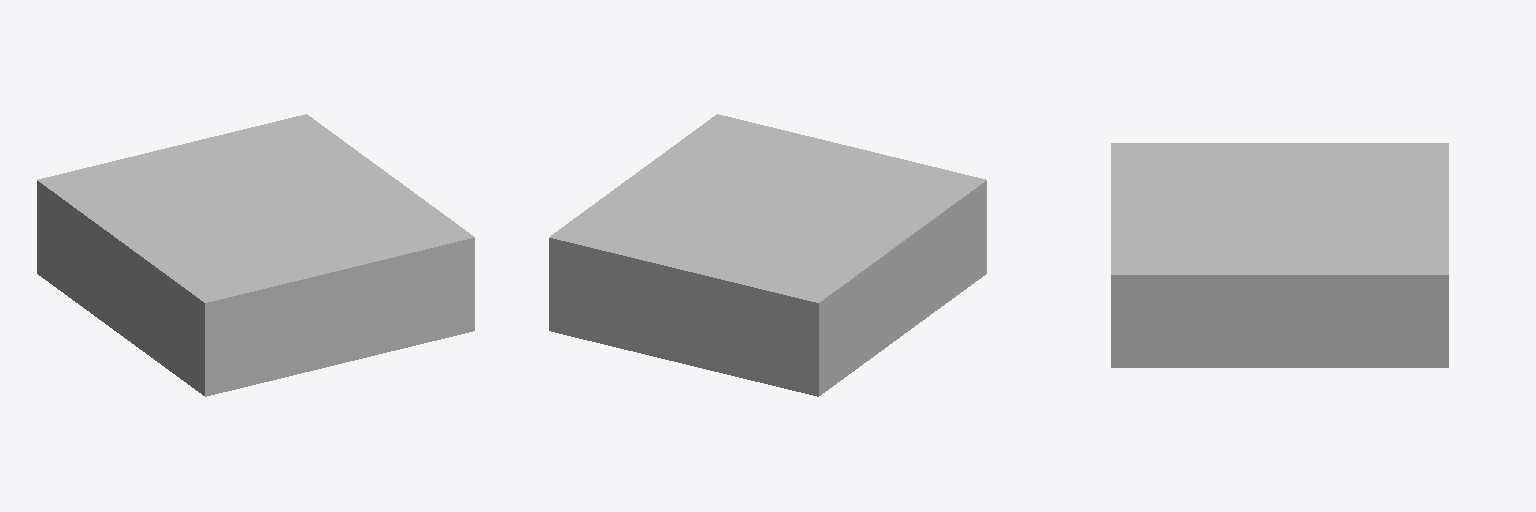
Rendered from prueba.obj.
The picture shows the model from 3 angles: view 1: azimuth 30°, elevation 25°; view 2: azimuth 150°, elevation 25°; view 3: azimuth 270°, elevation 25°; orthographic projection.
Visible parts, largest first — view 1: Cube_Cube.001; view 2: Cube_Cube.001; view 3: Cube_Cube.001.
Boxes of the visible parts, box(x1,y1,x2,y2) form: Cube_Cube.001: box(37, 114, 474, 396); Cube_Cube.001: box(549, 114, 986, 396); Cube_Cube.001: box(1111, 143, 1448, 367).
Bounding box in the file's own units: 0.0863 × 0.0289 × 0.0933.